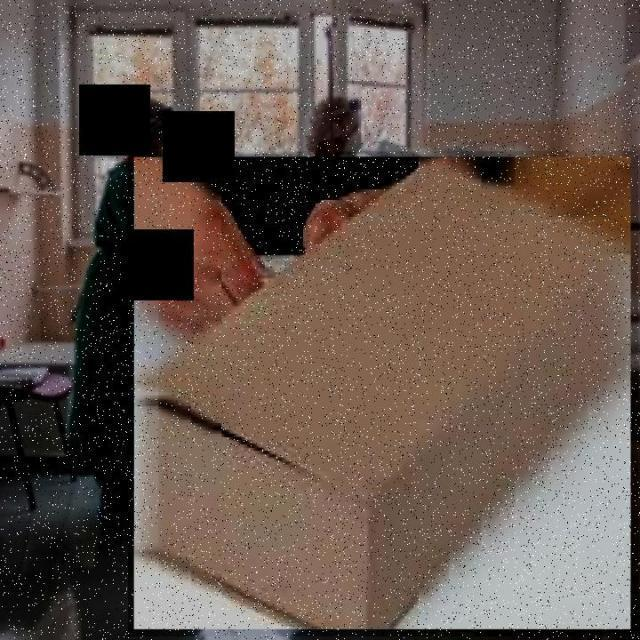box: (128, 151, 638, 637)
